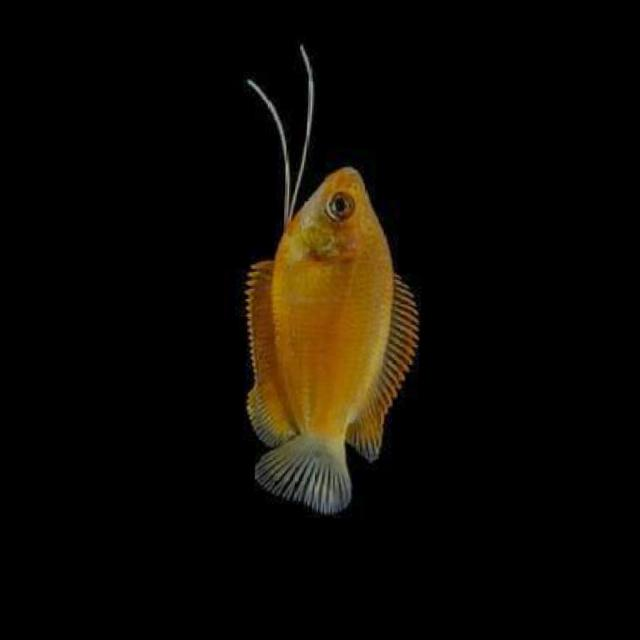Gourami: (233, 161, 422, 523)
